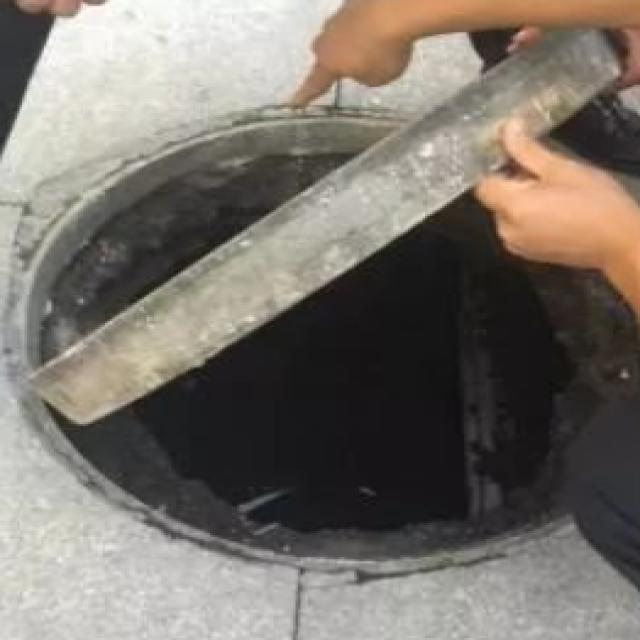manhole: (28, 120, 560, 565)
